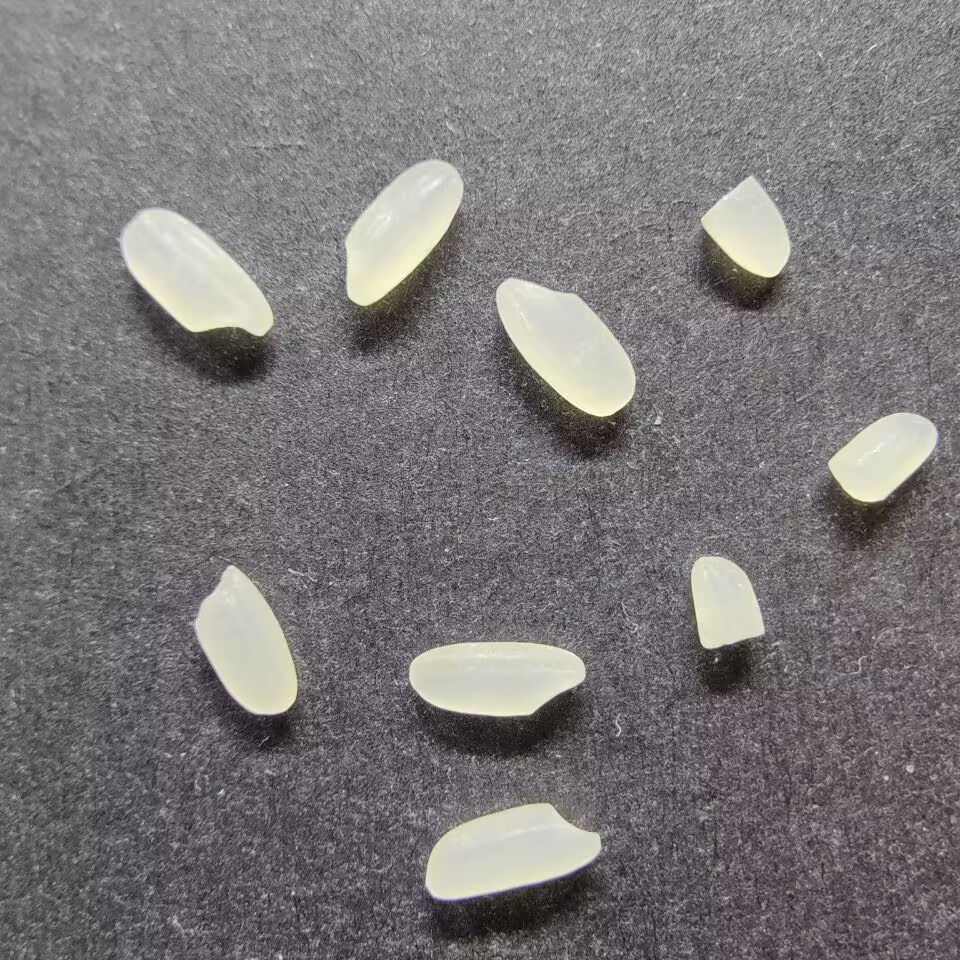broken: (825, 412, 940, 503), (697, 173, 793, 278), (688, 552, 767, 651)
rice: (118, 206, 276, 337), (493, 276, 636, 419), (422, 800, 603, 901), (342, 158, 464, 307), (191, 563, 299, 718), (407, 640, 587, 717)
